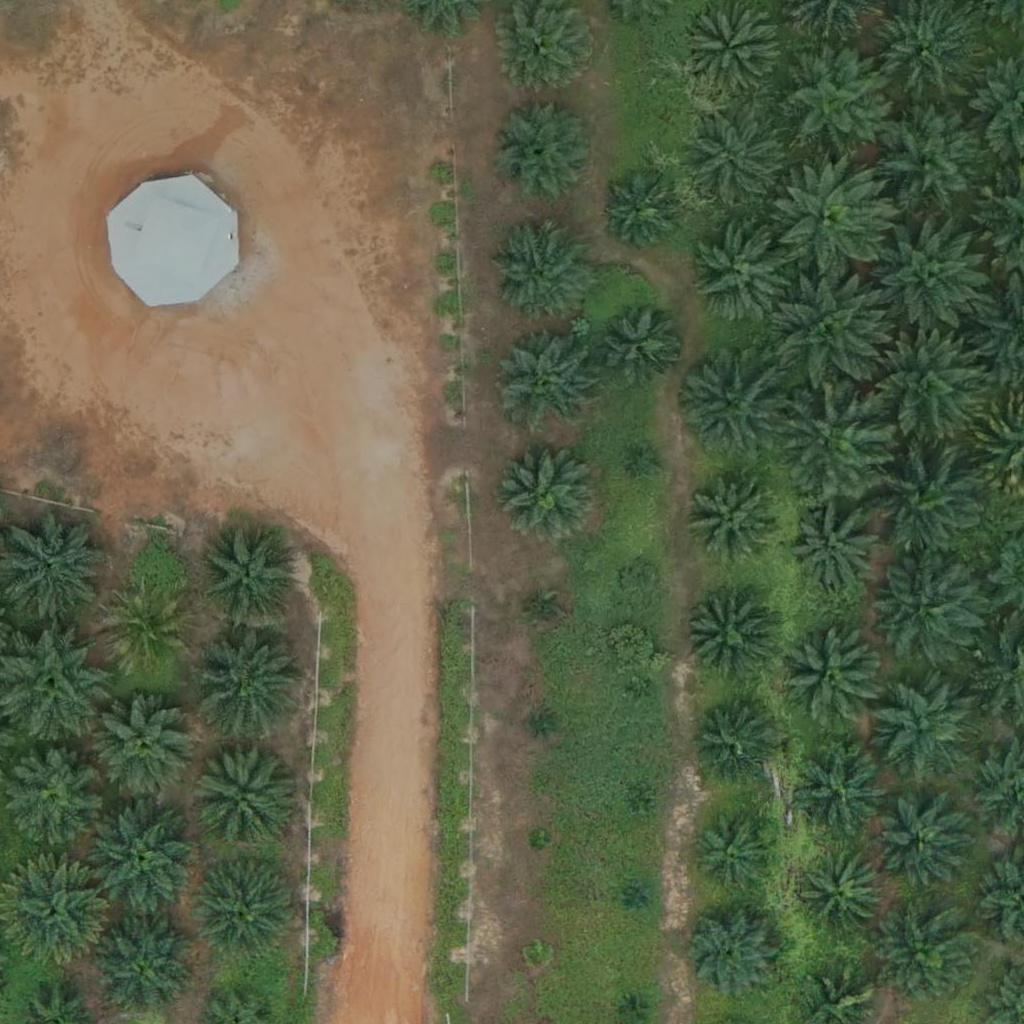Kelapa_Sawit: (675, 348, 788, 462), (875, 107, 988, 220), (86, 800, 199, 913), (775, 276, 887, 390), (869, 446, 981, 560), (873, 549, 985, 663), (778, 382, 890, 496), (775, 45, 887, 158), (774, 166, 886, 279), (877, 218, 989, 331), (866, 333, 978, 446), (675, 897, 787, 1010), (194, 626, 306, 739), (488, 220, 588, 321), (872, 678, 972, 779), (781, 627, 881, 728), (789, 739, 889, 840), (496, 331, 596, 432), (494, 439, 594, 540), (876, 906, 976, 1007), (196, 526, 296, 627), (93, 918, 193, 1019), (493, 101, 593, 201), (691, 113, 791, 213), (693, 226, 793, 326), (191, 746, 291, 846), (196, 860, 296, 960), (97, 699, 197, 799), (3, 749, 103, 849), (693, 808, 781, 897), (690, 700, 778, 788), (799, 852, 887, 940), (102, 589, 190, 677), (879, 804, 966, 892), (791, 505, 878, 593), (691, 472, 778, 560), (684, 594, 771, 682), (597, 301, 684, 389), (604, 173, 679, 249), (622, 564, 660, 602), (635, 449, 660, 474), (631, 679, 656, 704), (625, 795, 650, 820), (531, 599, 556, 624), (531, 712, 556, 737), (527, 830, 552, 855), (523, 942, 548, 967), (626, 884, 651, 909), (619, 994, 644, 1019)
